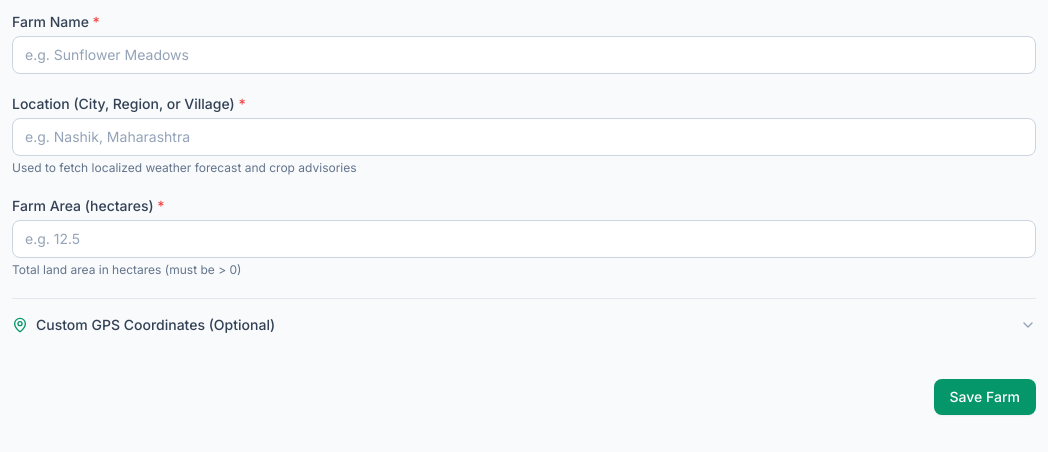
it: Frontend Farm Management Component Tests (Feature 2) › Farm.Validate: displays validation errors for missing and invalid fields
What coordinates should you click on to do the following:
click the button "Save Farm"
I would click on:
 (985, 397)
Its box is 934,379 -> 1036,415.
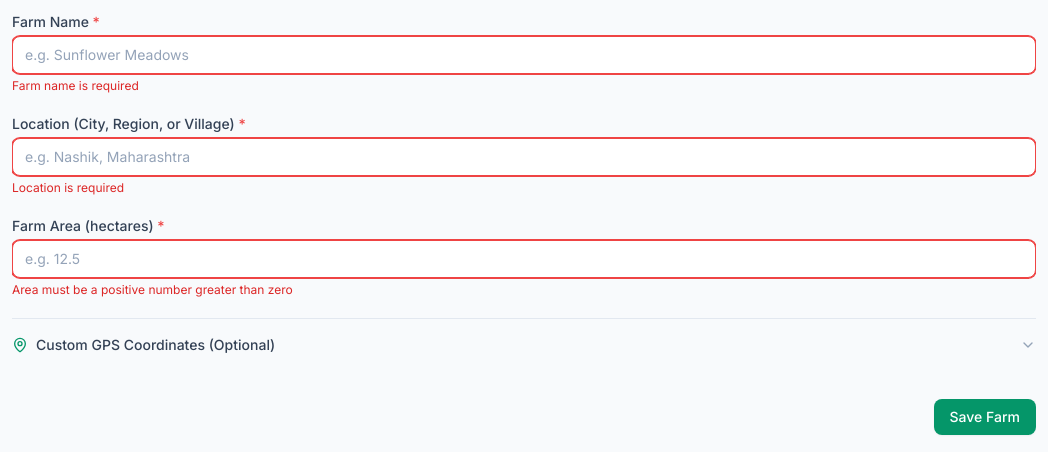
Result: the text "Farm name is required" is shown at 12,78 -> 139,93
Result: the text "Location is required" is shown at 12,180 -> 124,195
Result: the text "Area must be a positive number greater than zero" is shown at 12,282 -> 293,297
